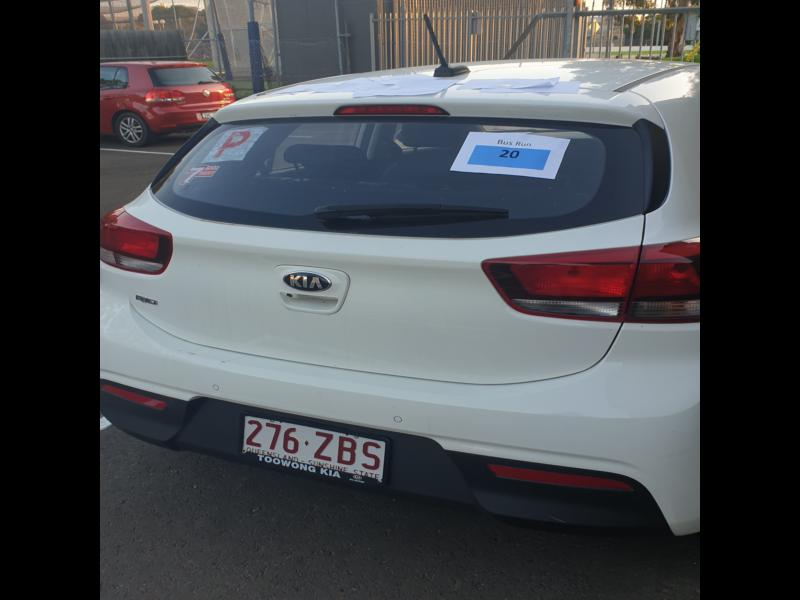BusRun: (467, 145, 550, 170)
PlateNo: (244, 413, 389, 482)
